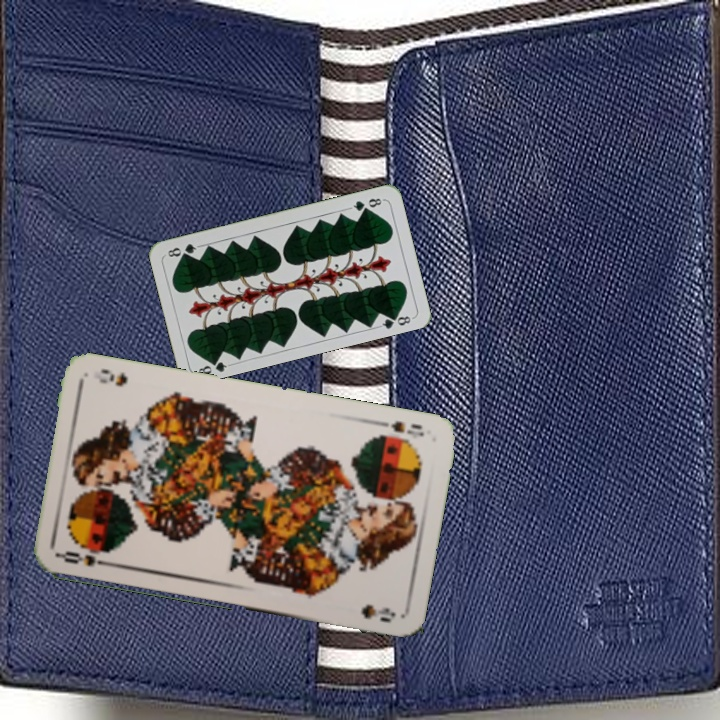G8: (192, 354, 233, 378), (346, 194, 386, 214)
SO: (55, 547, 114, 569), (373, 417, 427, 439)
